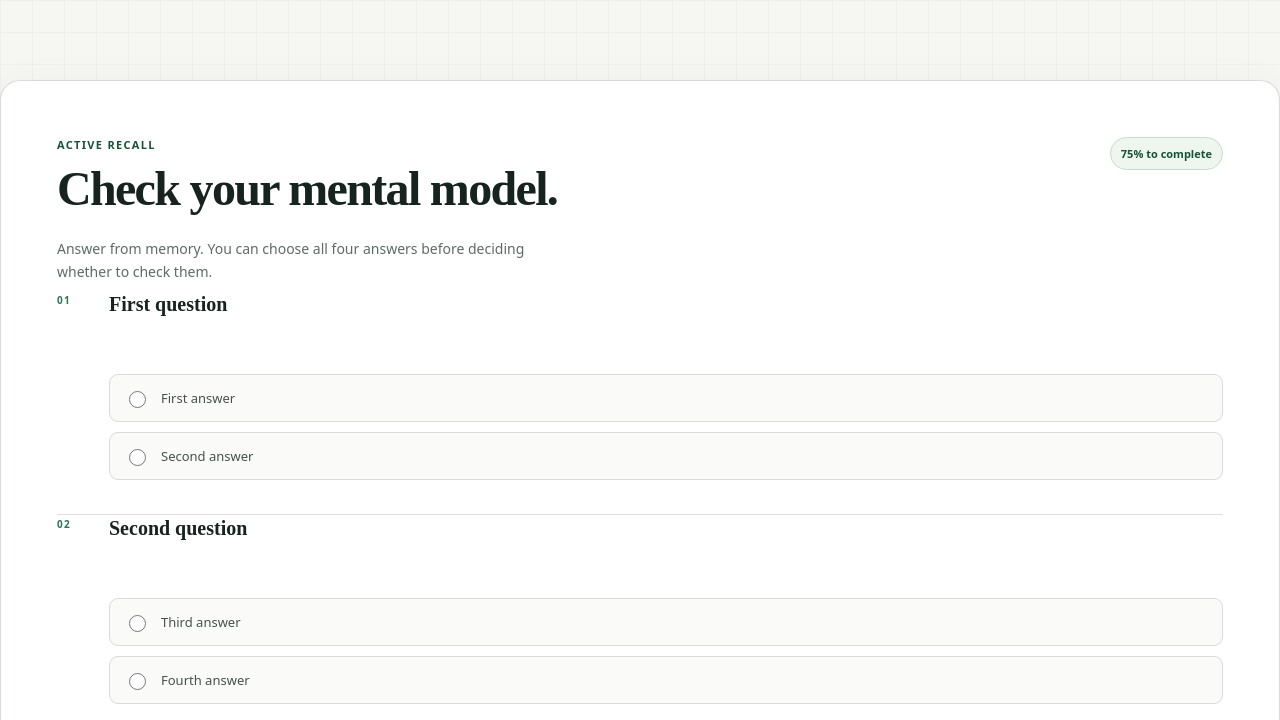
it: LessonQuiz analytics › keeps signed-out answers local until the learner requests grading
Check: the link "Create account" is not shown
Click the radio button labelled "First answer" at (138, 400), box [129,391,146,408]
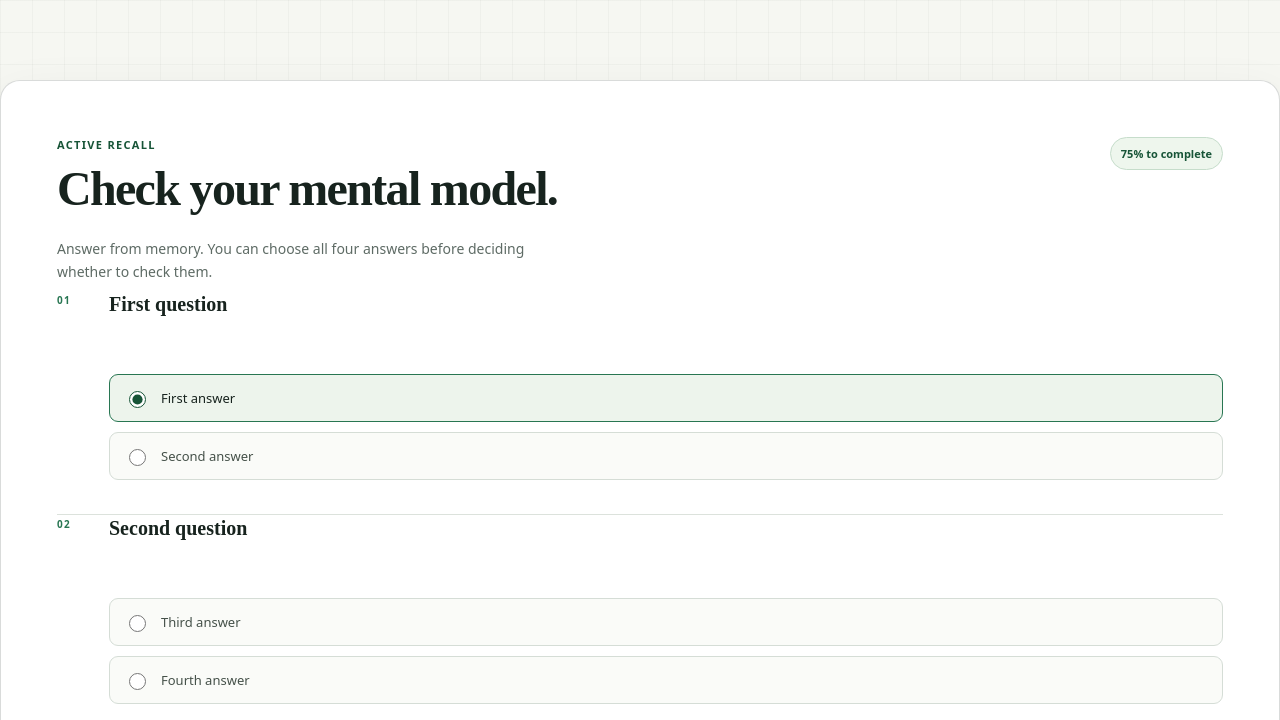
Click the radio button labelled "Third answer" at (138, 624), box [129,615,146,632]
(page scrolled)
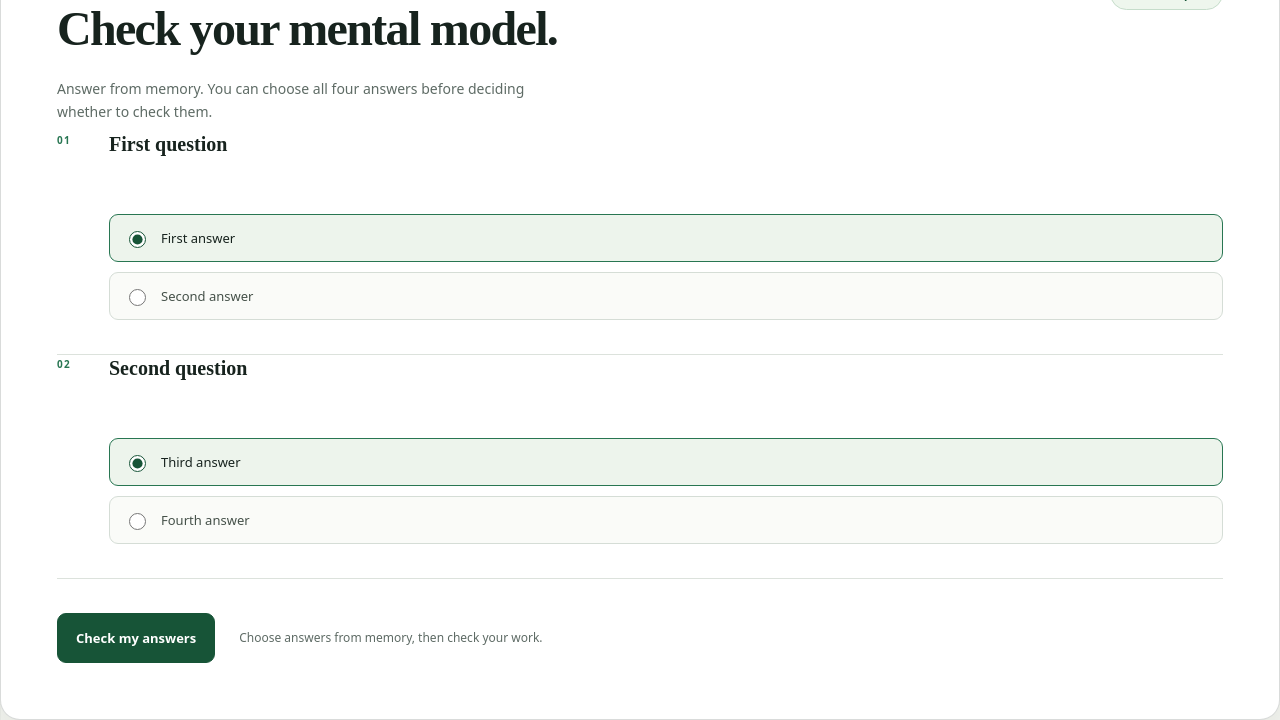
Click the button "Check my answers" at (136, 638), box [57,613,215,663]
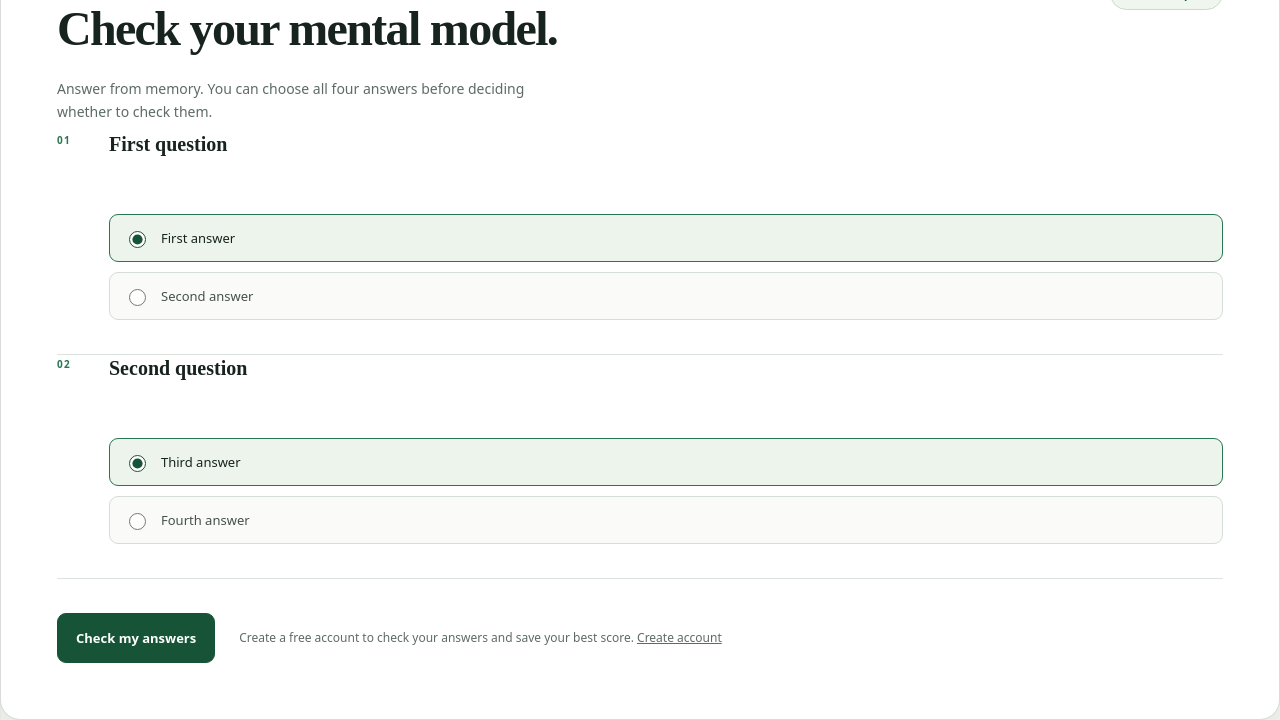
Check: the text "Create a free account to check your answers" is shown, box [239,629,634,646]
